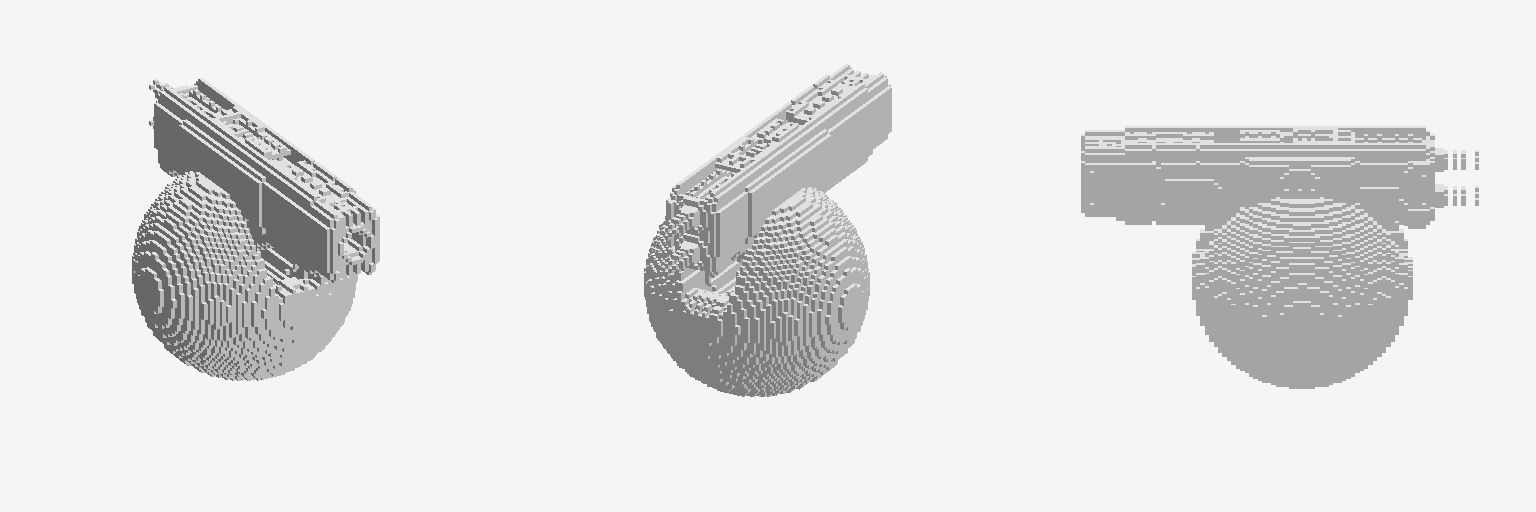
The model's file is MeteorSniper.obj.
The picture shows the model from 3 angles: view 1: azimuth 30°, elevation 25°; view 2: azimuth 150°, elevation 25°; view 3: azimuth 270°, elevation 25°; orthographic projection.
Parts seen in each view (by area): view 1: object 1; view 2: object 1; view 3: object 1.
Part boxes in pixels (left/top/right/bottom): object 1: left=132, top=78, right=379, bottom=380; object 1: left=644, top=64, right=891, bottom=396; object 1: left=1081, top=126, right=1478, bottom=388.
Bounding box in the file's own units: 5 × 6 × 9.